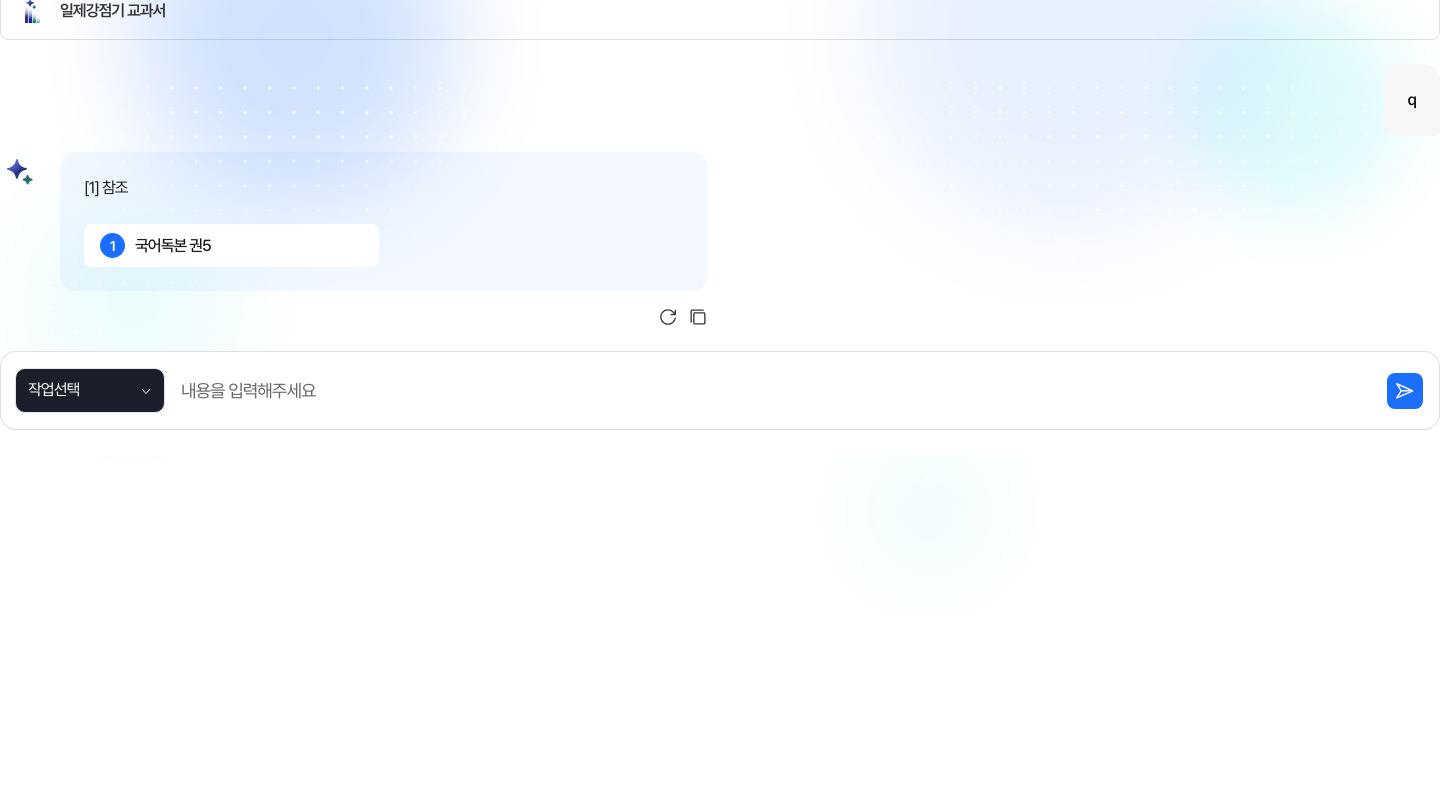
Test: 설명문 생성(채팅 인라인, round07f 대화 턴) › 폼의 「생성하기」는 바로 만들지 않고 결정 모달을 띄운다
Click the button "작업선택".
click(90, 390)  # box [15, 368, 165, 413]
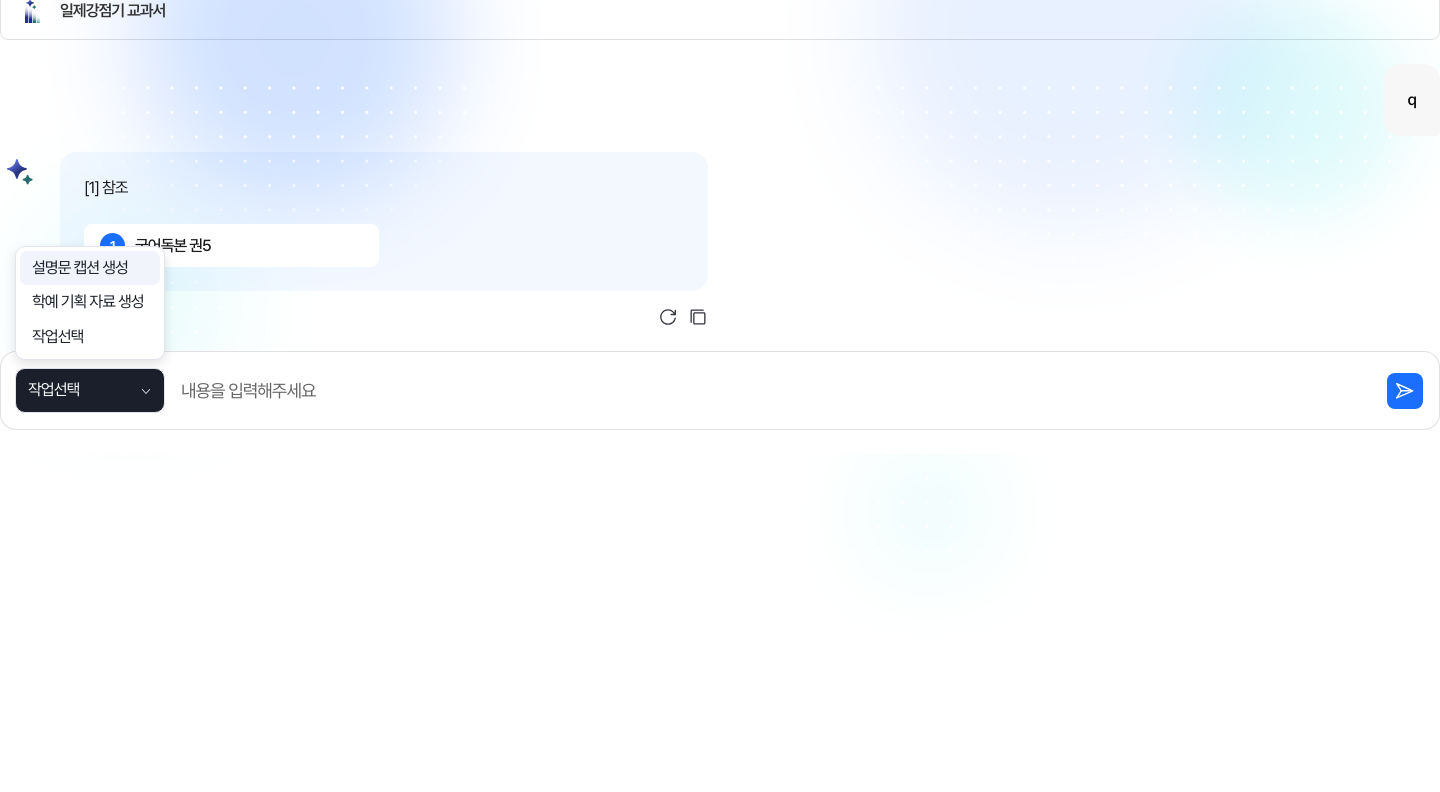
Click the option "설명문 캡션 생성".
click(90, 268)  # box [20, 251, 160, 285]
(page scrolled)
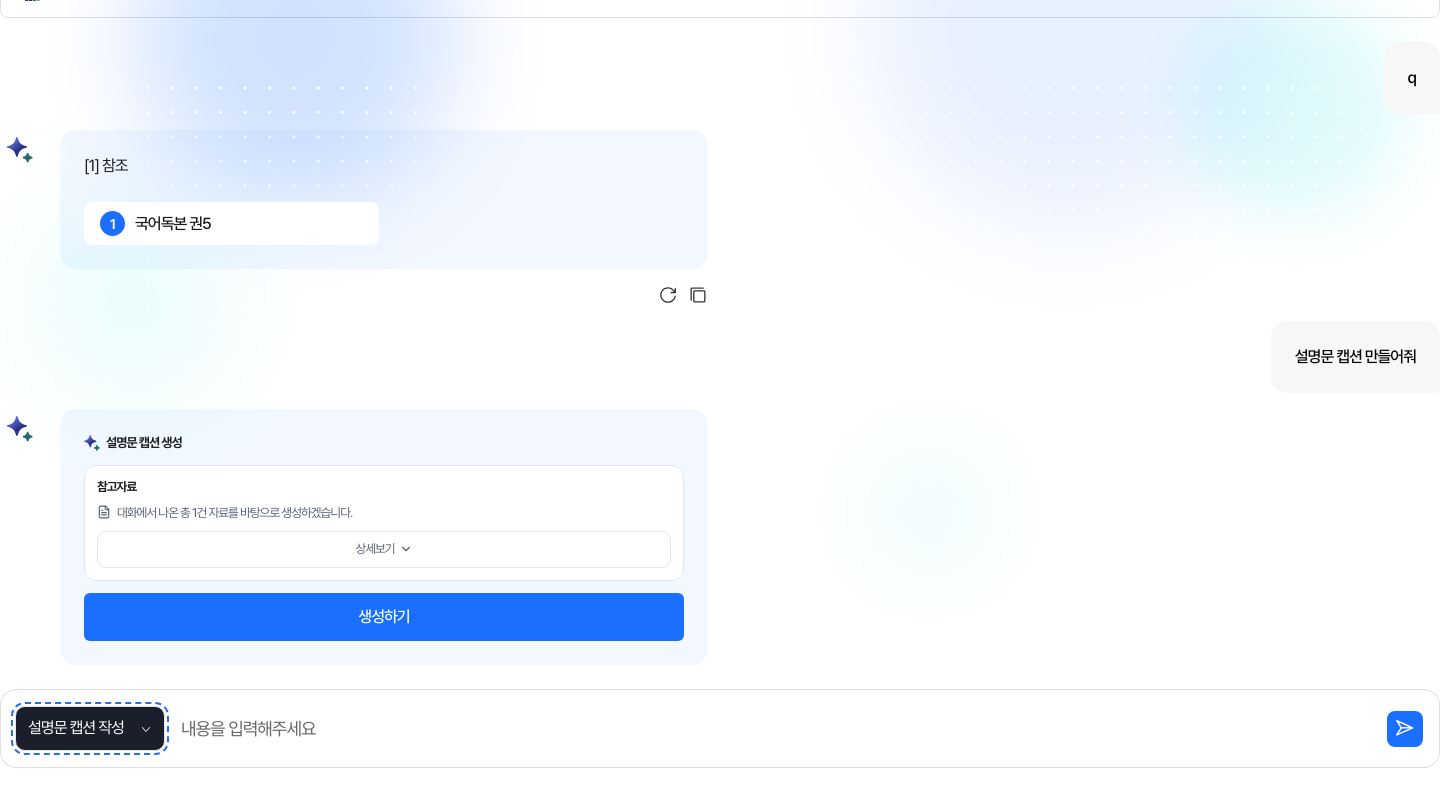
Click the button "생성하기".
click(384, 617)  # box [84, 593, 684, 641]
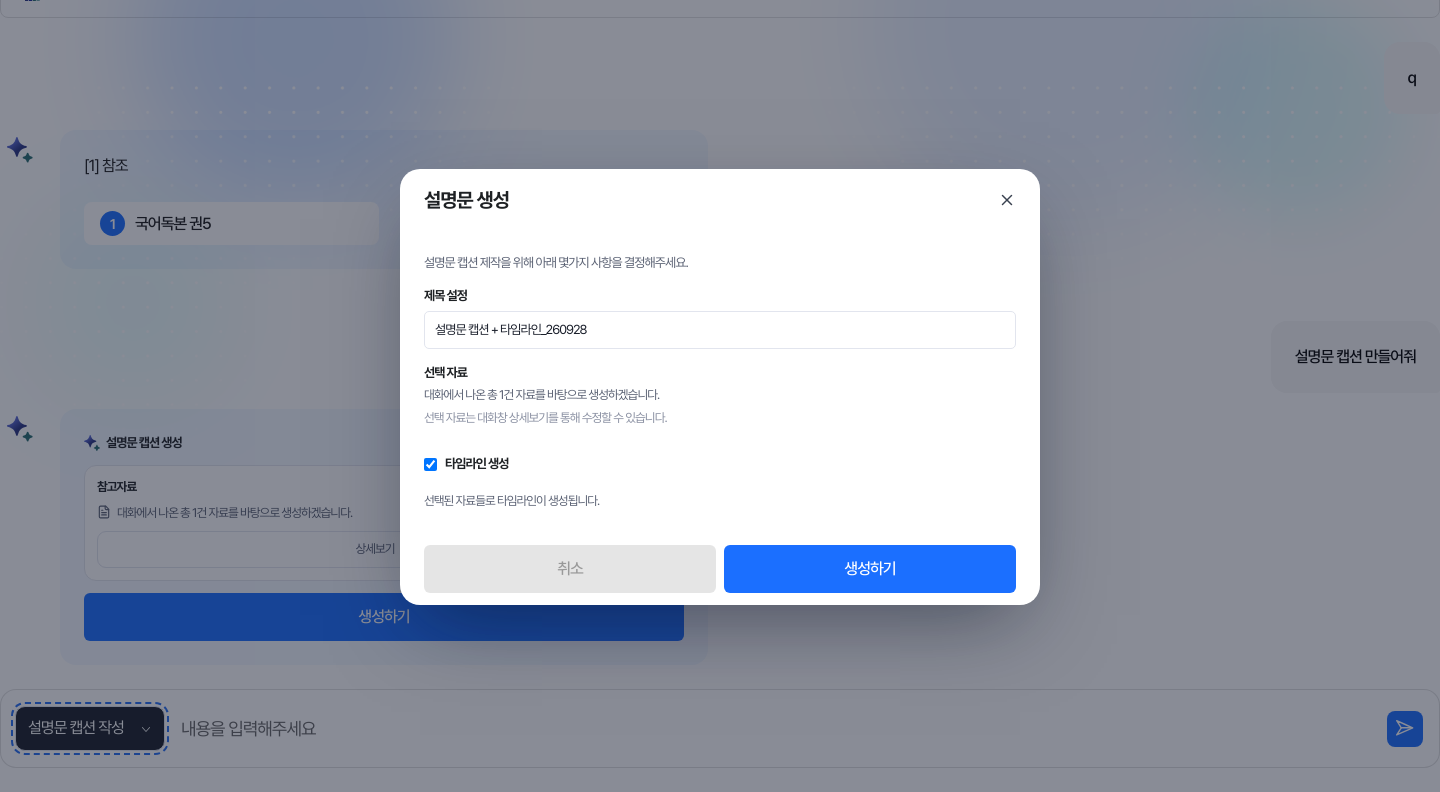
Result: the text "설명문 캡션 제작을 위해 아래 몇가지 사항을 결정해주세요." is shown at [424, 255, 688, 270]
Result: the number of buttons "생성하기" is 2 at [84, 593, 684, 641]; [724, 545, 1016, 593]
